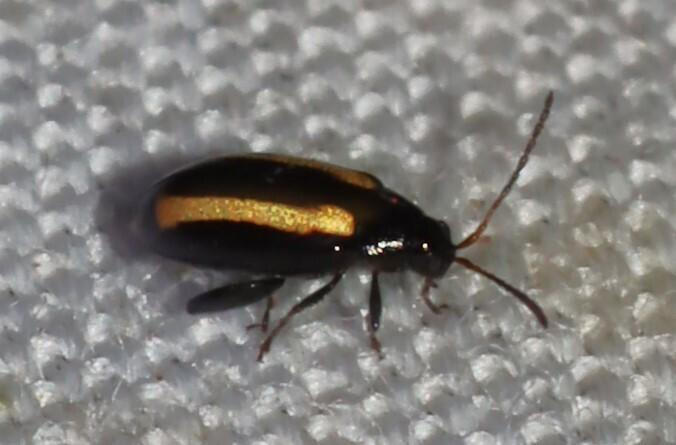flea_beetle: (72, 43, 603, 396)
